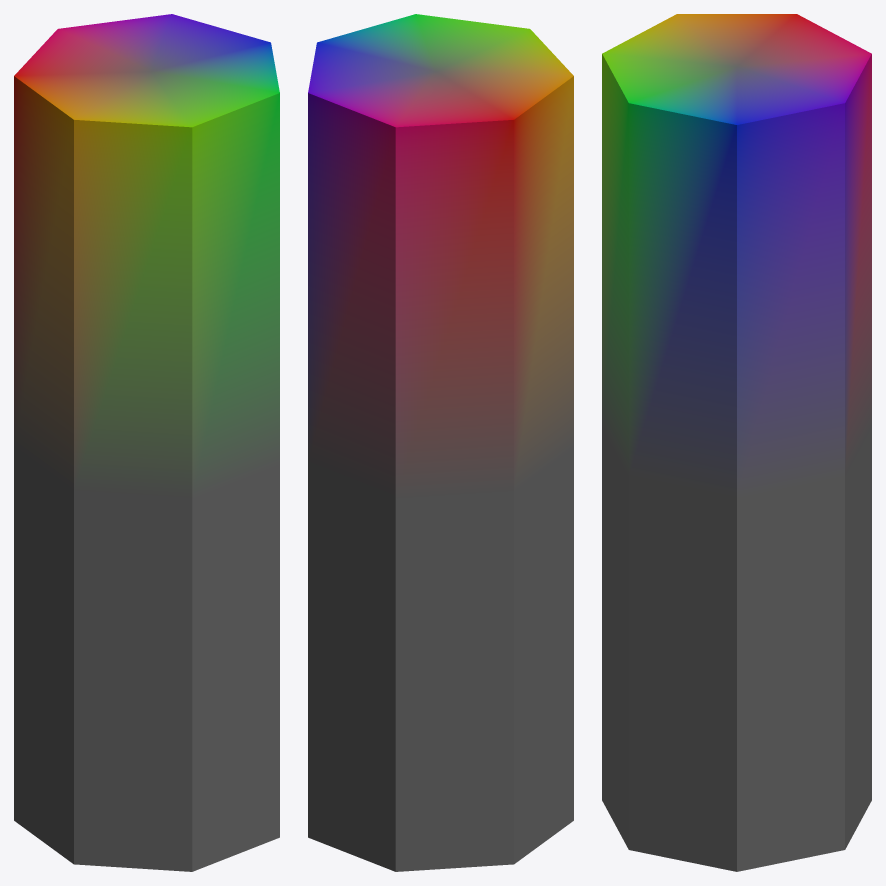
The model's file is Comparative_VertexColorCylinder.fbx.
3 renders of one model, left to right at view 1: azimuth 30°, elevation 25°; view 2: azimuth 150°, elevation 25°; view 3: azimuth 270°, elevation 25°, orthographic.
Parts seen in each view (by area): view 1: BlendShapeTower; view 2: BlendShapeTower; view 3: BlendShapeTower.
Boxes of the visible parts, box(x1,y1,x2,y2) form: BlendShapeTower: box(14, 14, 279, 871); BlendShapeTower: box(308, 14, 573, 871); BlendShapeTower: box(602, 14, 871, 871).
Size of the model in its own units: 4.46 by 13.98 by 4.57.
